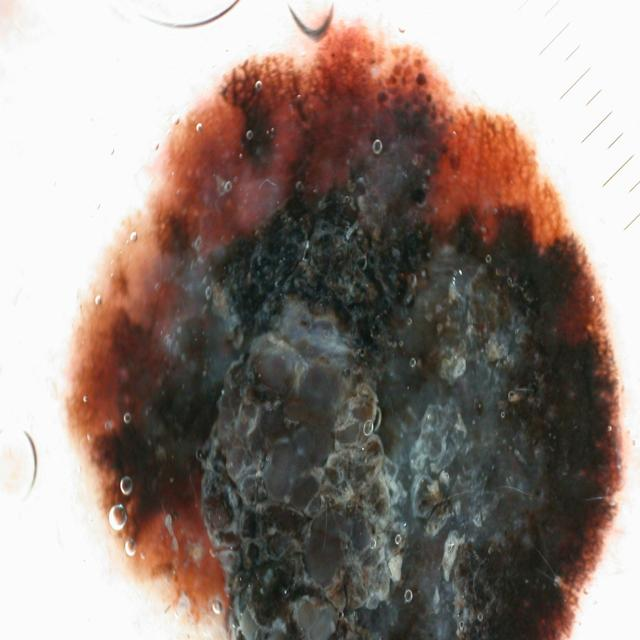Melanoma: (0, 29, 640, 640)
